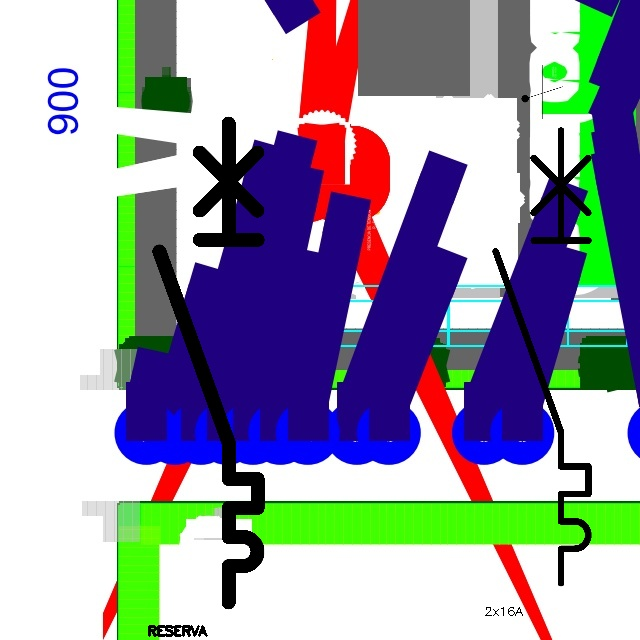interruptor_termomagnetico: (147, 111, 270, 615), (484, 118, 600, 594)
